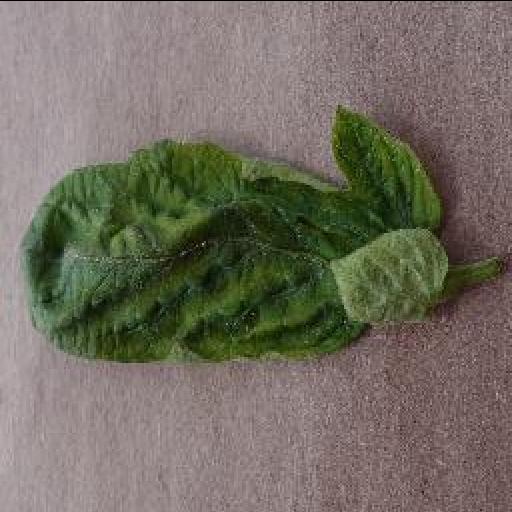disease_tomato: (16, 102, 450, 364)
